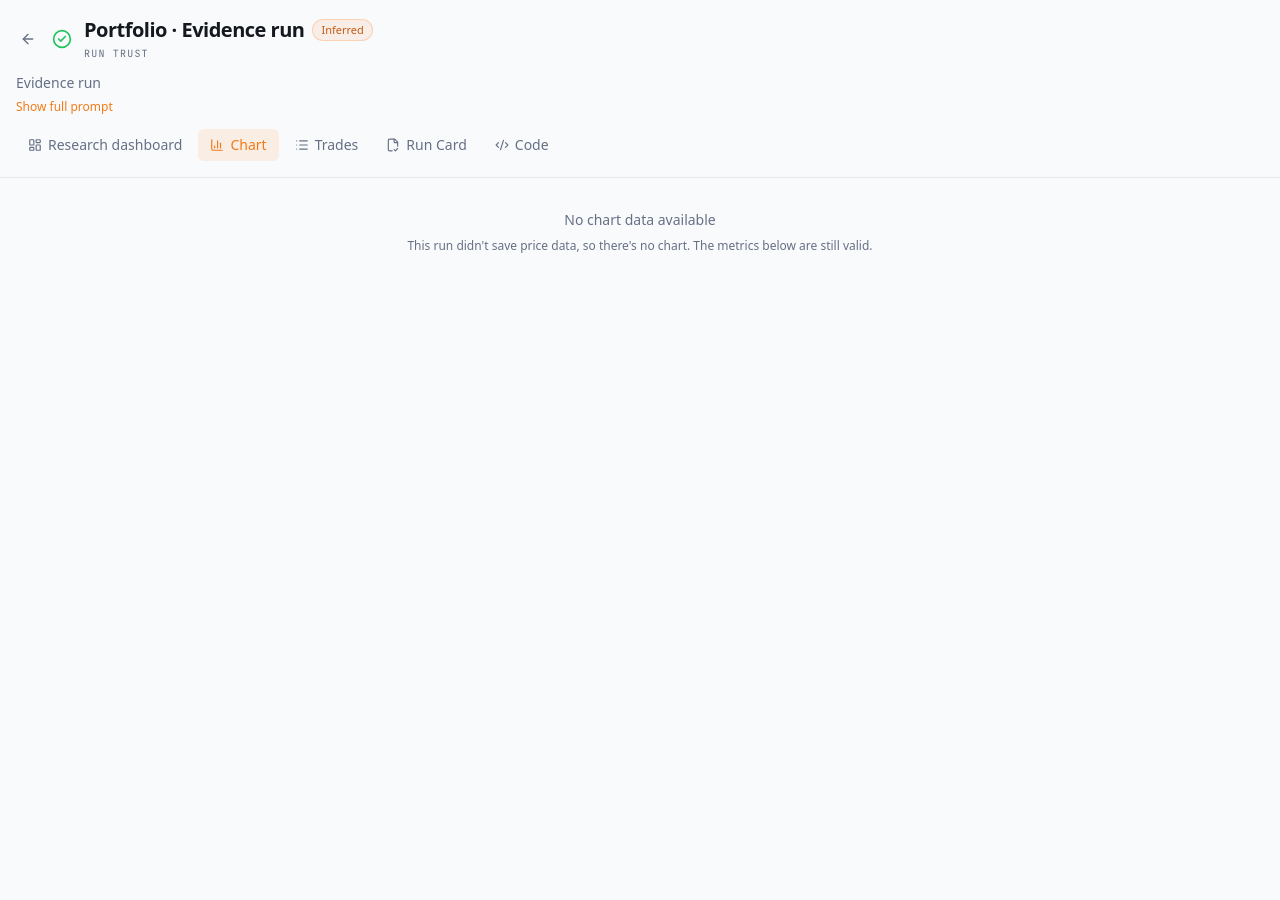
RunDetail page › renders execution status, UTC times and complete metric evidence hashes
What coordinates should you click on to do the following:
click the tab "Run Card"
I would click on:
 (427, 145)
Its box is x1=374 y1=129 x2=479 y2=161.
(page scrolled)
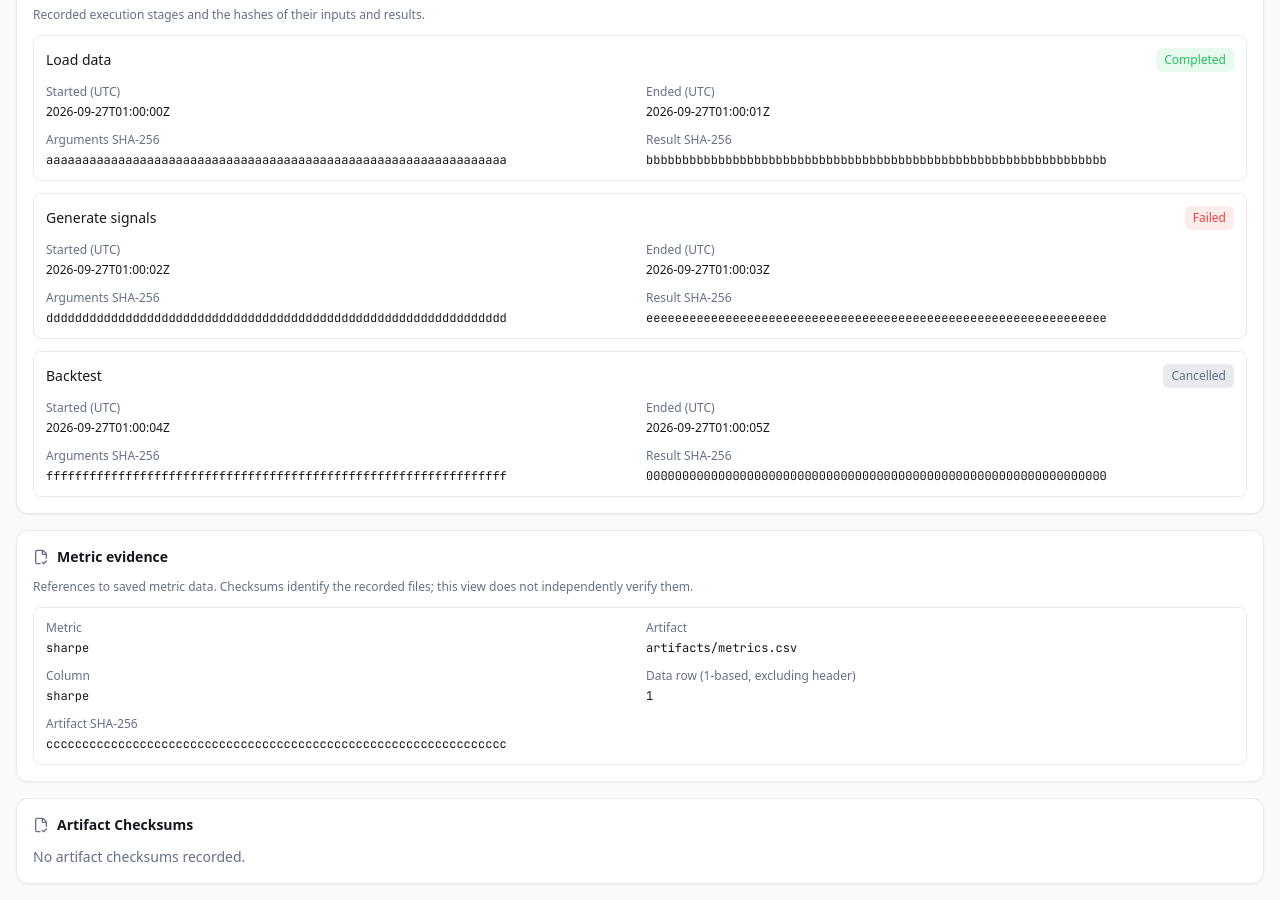
Now the text "Load data" is shown, box x1=46 y1=50 x2=111 y2=70
Now the text "Generate signals" is shown, box x1=46 y1=208 x2=156 y2=228
Now the text "Backtest" is shown, box x1=46 y1=366 x2=102 y2=386
